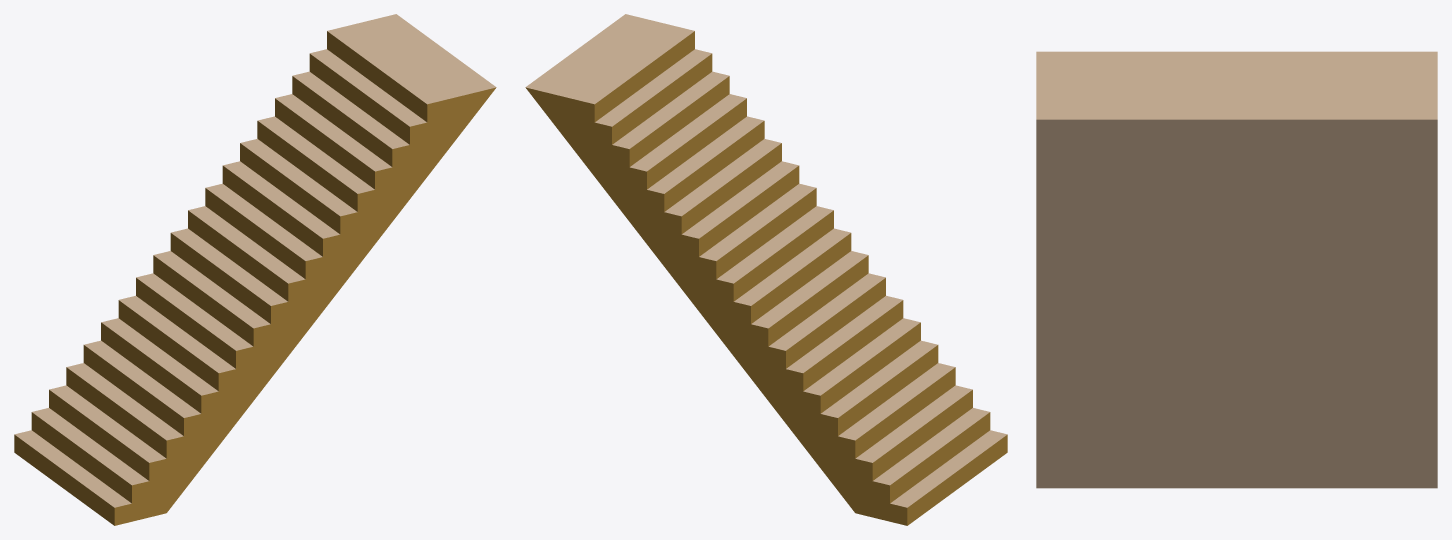
Rendered from Staircase-Atl.fbx.
3 views of the same model, side by side, from view 1: azimuth 30°, elevation 25°; view 2: azimuth 150°, elevation 25°; view 3: azimuth 270°, elevation 25° (orthographic). The views are drawn at different scales.
Visible parts, largest first — view 1: Staircase; view 2: Staircase; view 3: Staircase.
Boxes of the visible parts, x1,y1,x2,y2 form: Staircase: [14, 14, 496, 525]; Staircase: [525, 14, 1007, 525]; Staircase: [1036, 51, 1437, 488].
Size of what is drawn, in the model's own units: 440 by 380 by 200.
